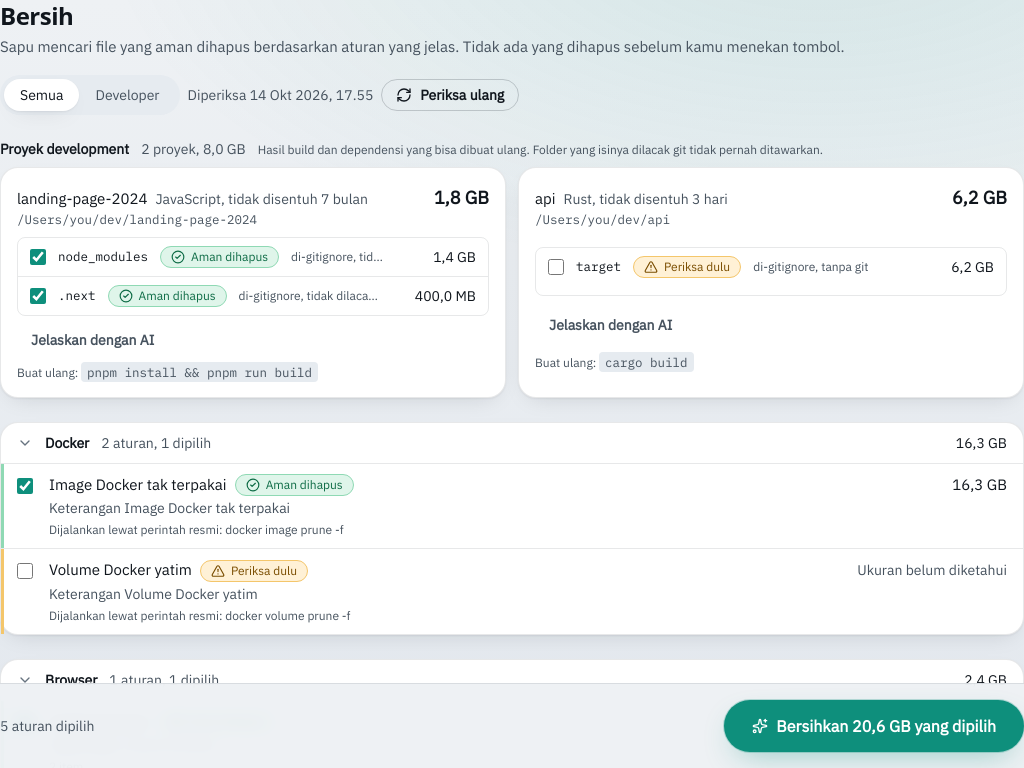
Scenario: AI on › explains a project's artefacts in Bersih
Check: the text "landing-page-2024" is shown, box [17,188,147,208]
Click the button "Jelaskan dengan AI" below "JavaScript".
click(93, 340)  # box [17,324,168,356]
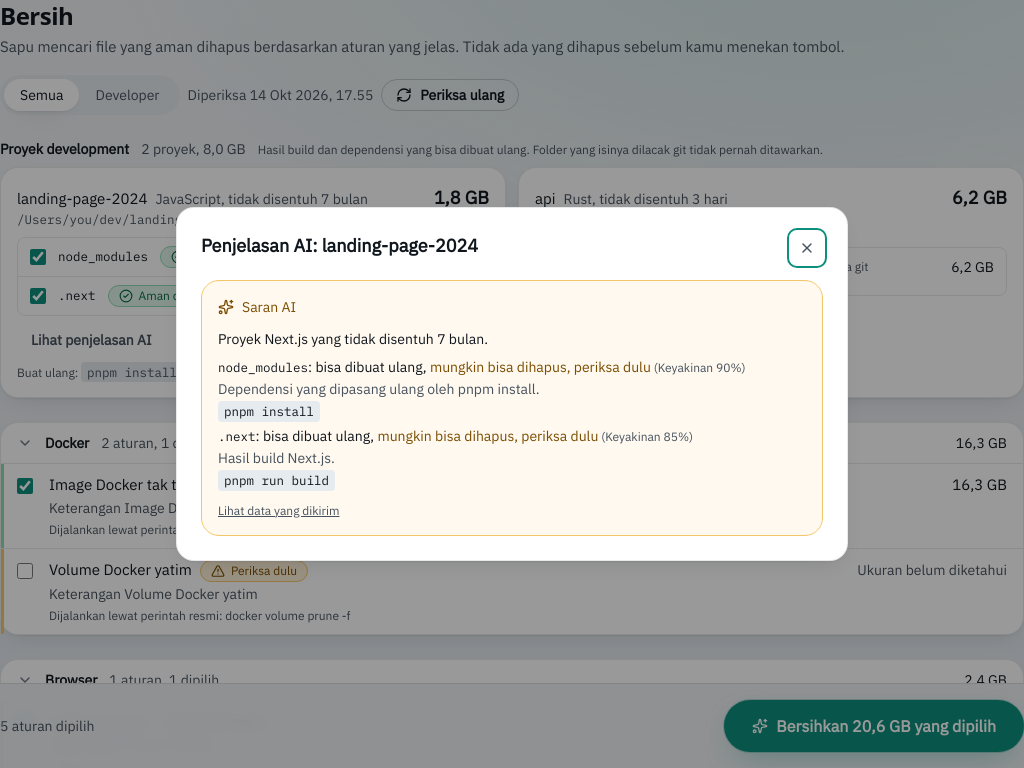
Check: the text "Proyek Next.js yang tidak disentuh 7 bulan." is shown, box [218,330,488,348]
Check: the text "pnpm run build" is shown, box [218,470,335,491]
